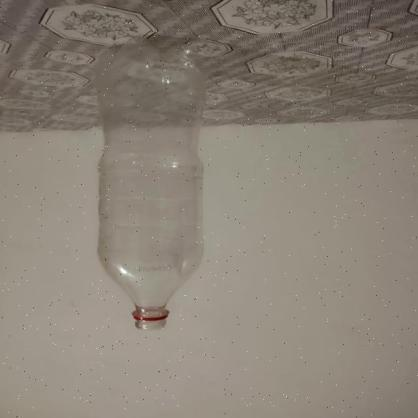bottle: (93, 39, 207, 330)
